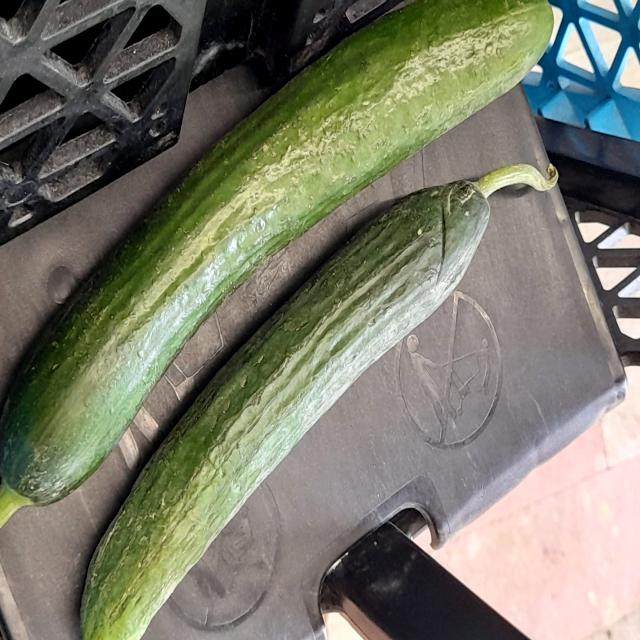cucumber: (0, 0, 560, 507), (79, 152, 556, 640)
